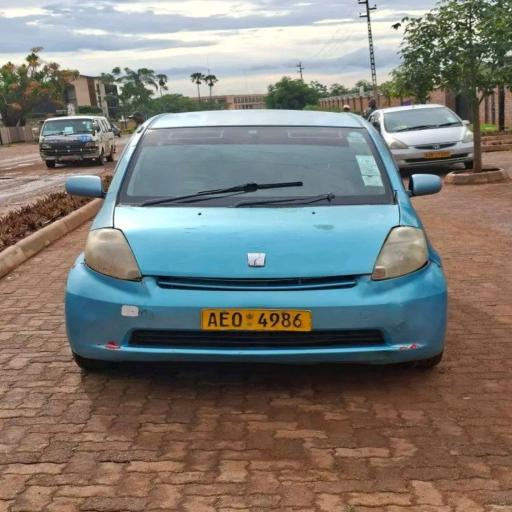number-plates: (204, 310, 316, 332)
